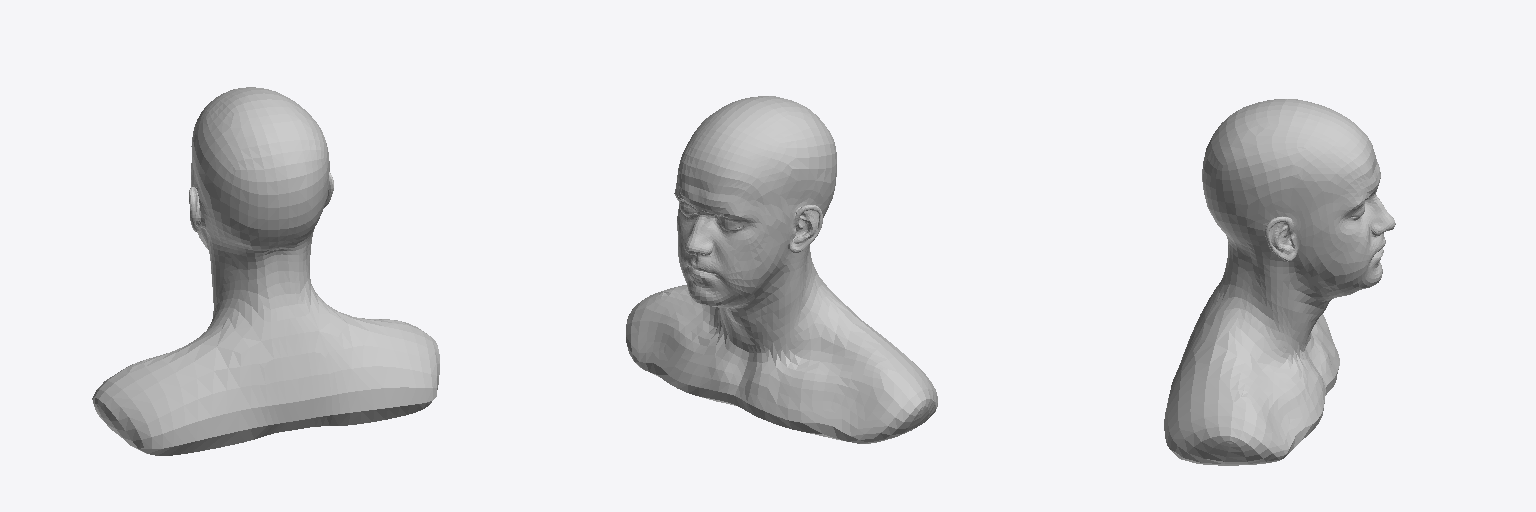
File: head.obj
The picture shows the model from 3 angles: view 1: azimuth 30°, elevation 25°; view 2: azimuth 150°, elevation 25°; view 3: azimuth 270°, elevation 25°; orthographic projection.
Size of the model in its own units: 1.68 by 1.58 by 1.08.